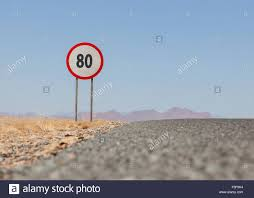Speed_limit_80km: (65, 42, 104, 80)
